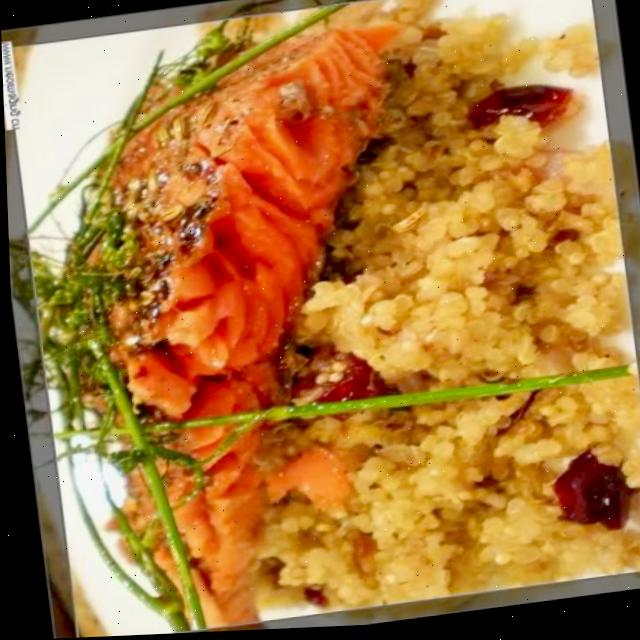熟制海鲜: (20, 0, 615, 625)
